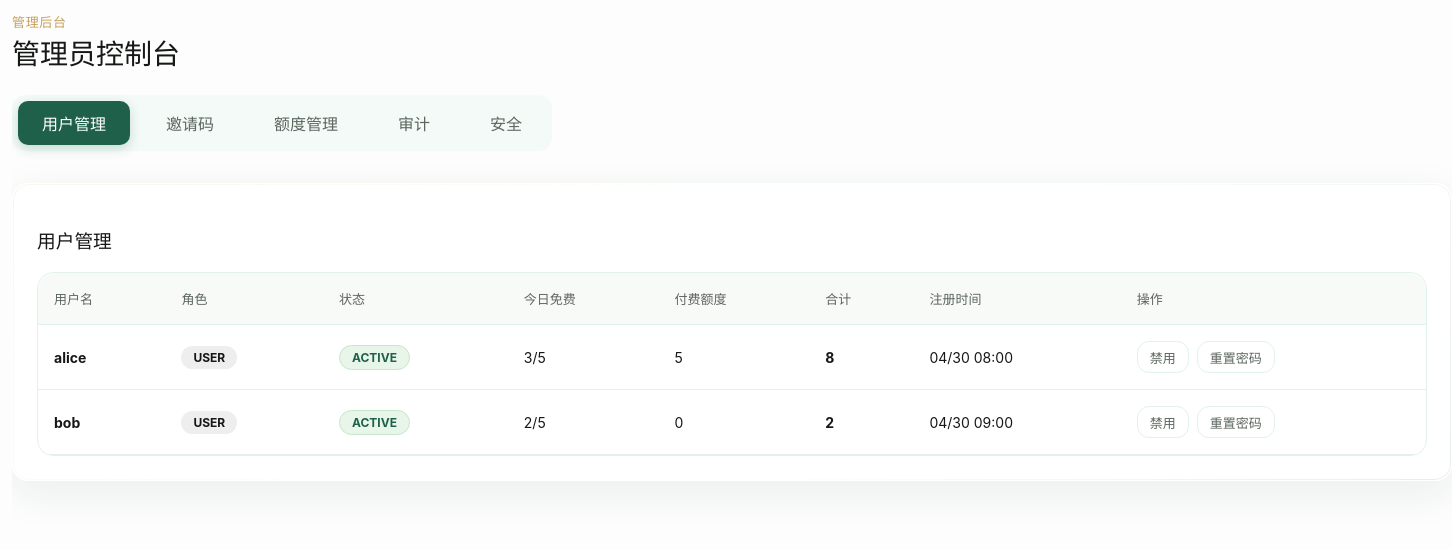
it: AdminPage › tops up today's free balance from the credit tab
This screenshot has width=1452, height=549.
Click the tab "额度管理".
click(306, 123)  # box [250,101,362,145]
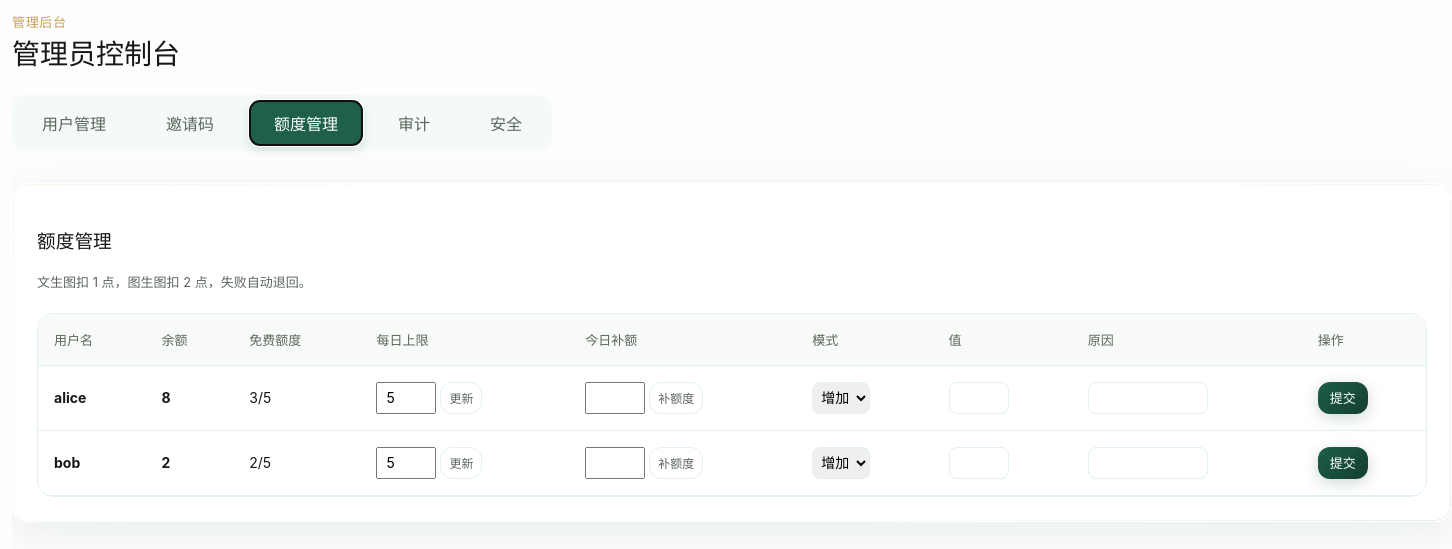
Type "3" into the number field named "补今日免费额度" in the row of "alice".
click(615, 398); type("3")  # box [585,382,645,414]
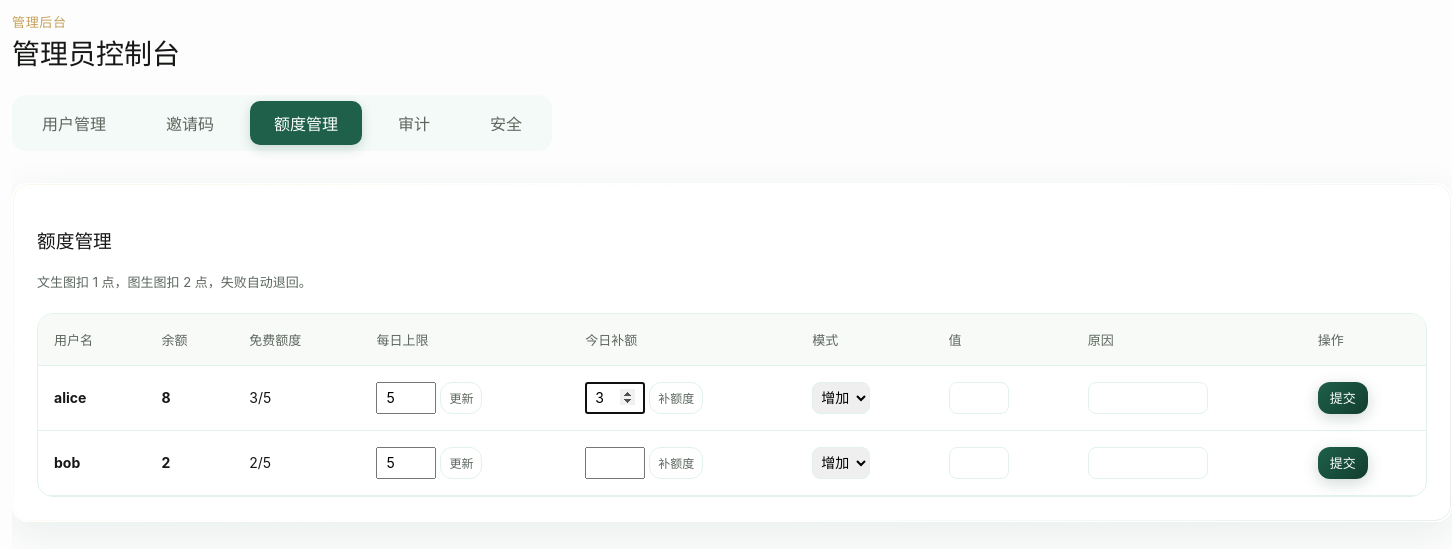
Click the button "补额度" in the row of "alice".
click(676, 398)  # box [649,382,703,414]
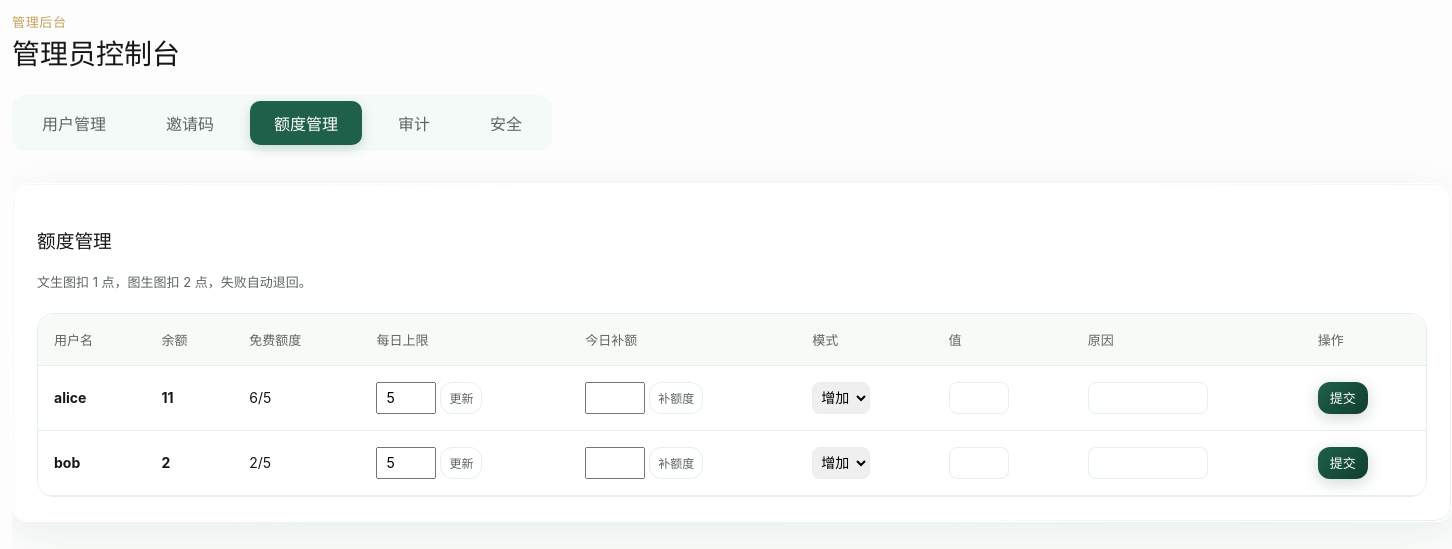
Result: the text "6/5" is shown at [233,365,360,430]
